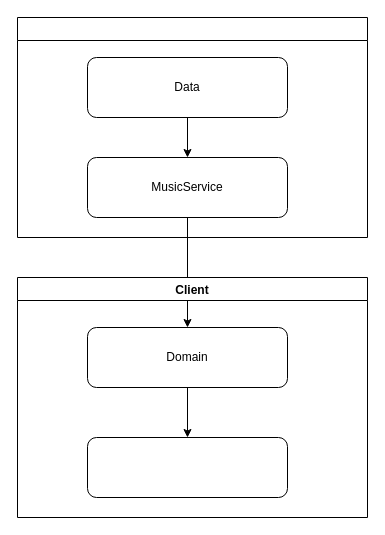
Image size: 385x535. Some labels were removed from this diagram. The box of each missing label's shape, as (x1, y1, x2, y2) in pixels:
Server: (16, 16, 368, 238)
UI: (86, 436, 288, 498)
